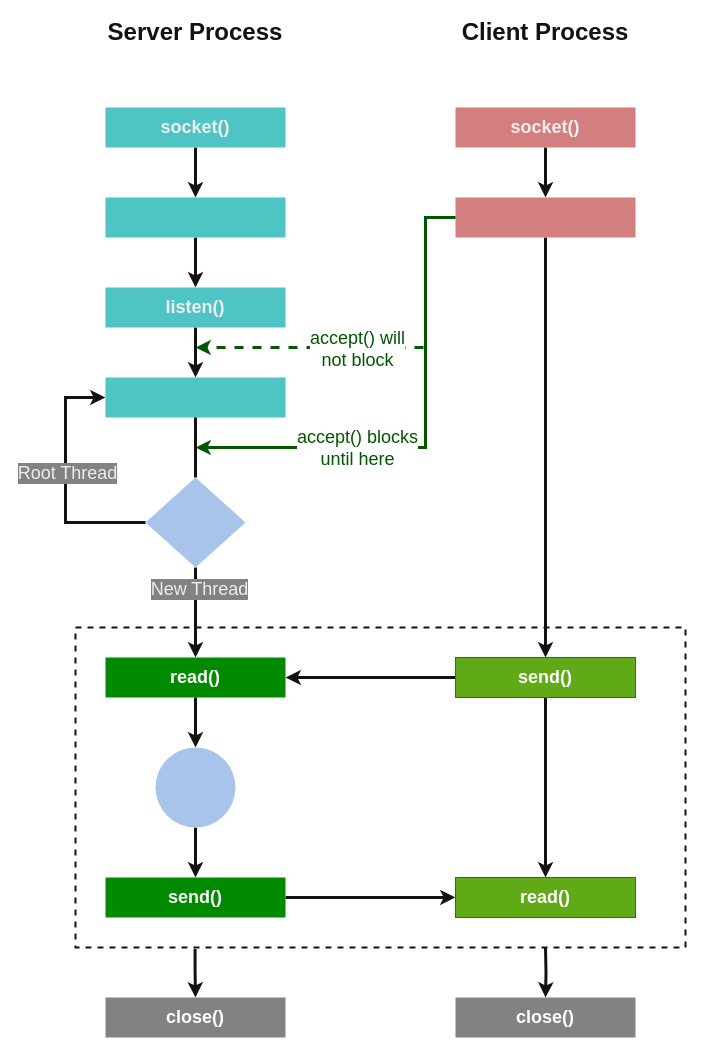
This 704x1054 diagram has some shape labels left out. Here are the shapes that lost their labels. From the top down, the box of each, then its label:
(105, 197, 285, 237): bind()
(455, 197, 635, 237): connect()
(105, 377, 285, 417): accept()
(145, 477, 245, 567): Create Thread
(155, 747, 235, 827): M2M Process
